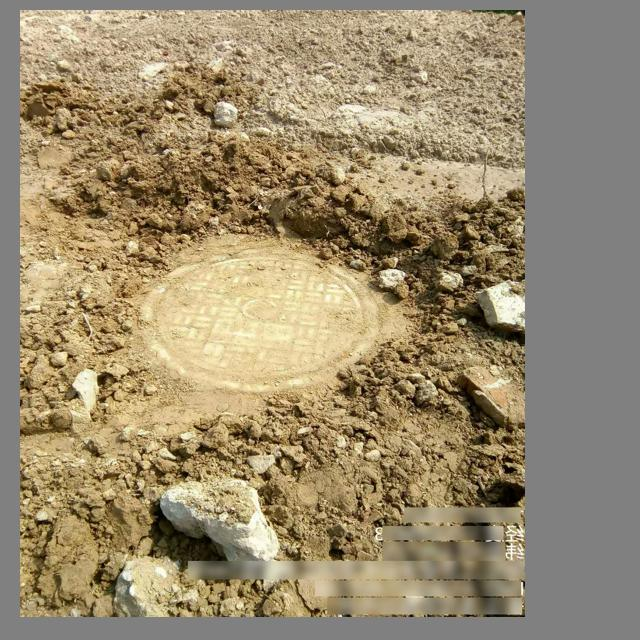good: (138, 249, 381, 389)
